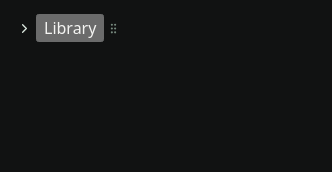
Scenario: DirectoryFilterTree › does not read unopened sources and offers a read-only retry after failure
Later steps or results of the test are not shown.
Click the button named "展开或收起 Library". click: (24,28)
box: [12,12,36,44]
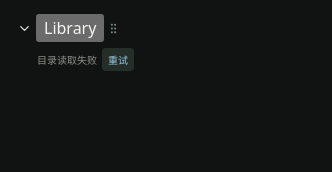
Expected: the message shows "目录读取失败", [37,53,97,67]
